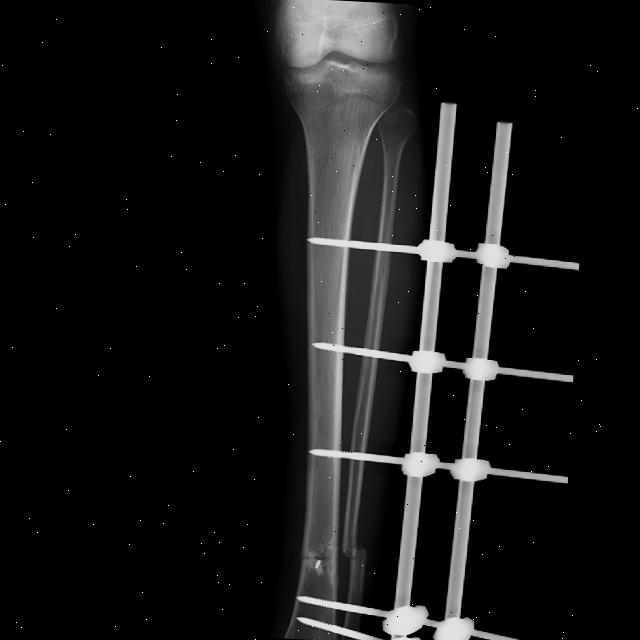Fracture: (297, 532, 338, 592), (340, 534, 369, 577)
